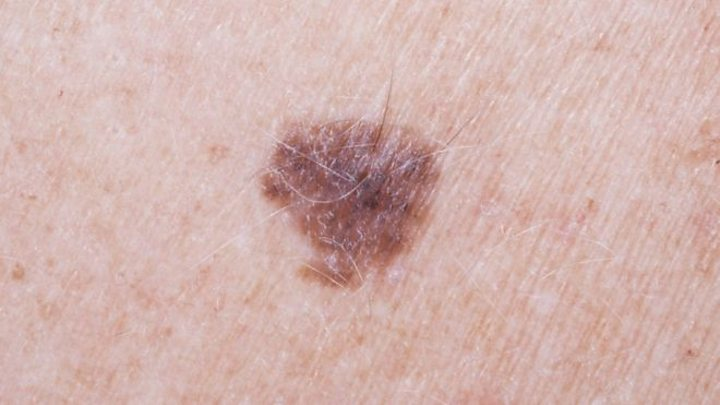melanoma: (201, 72, 498, 331)
